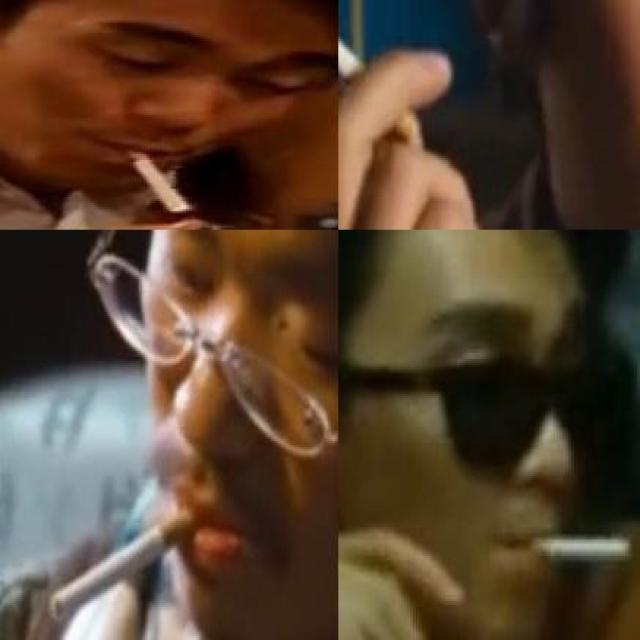smoking: (46, 502, 200, 622), (338, 0, 413, 142), (117, 147, 198, 215), (520, 536, 634, 566)
